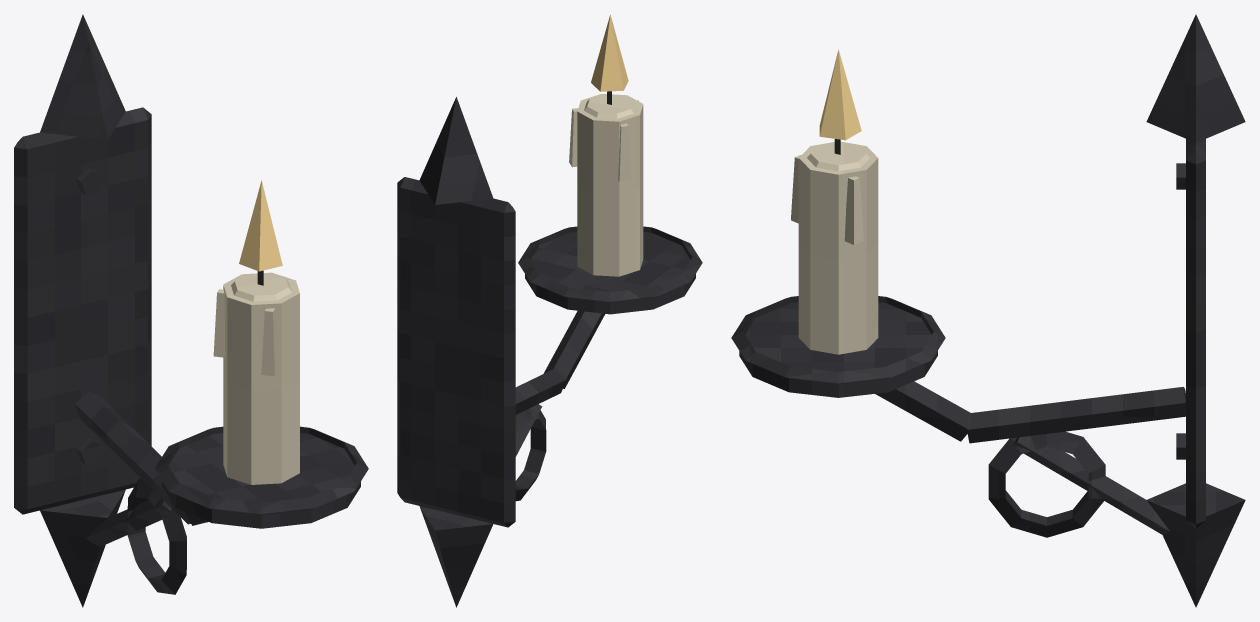
File: wall_sconce.obj
3 views of the same model, side by side, from view 1: azimuth 30°, elevation 25°; view 2: azimuth 150°, elevation 25°; view 3: azimuth 270°, elevation 25° (orthographic). The views are drawn at different scales.
Visible parts, largest first — view 1: wall_sconce; view 2: wall_sconce; view 3: wall_sconce.
Part boxes in pixels (x1=…): wall_sconce: x1=14, y1=14, x2=368, y2=607; wall_sconce: x1=397, y1=14, x2=702, y2=607; wall_sconce: x1=731, y1=14, x2=1245, y2=607.
Bounding box in the file's own units: 0.216 × 0.66 × 0.518.
